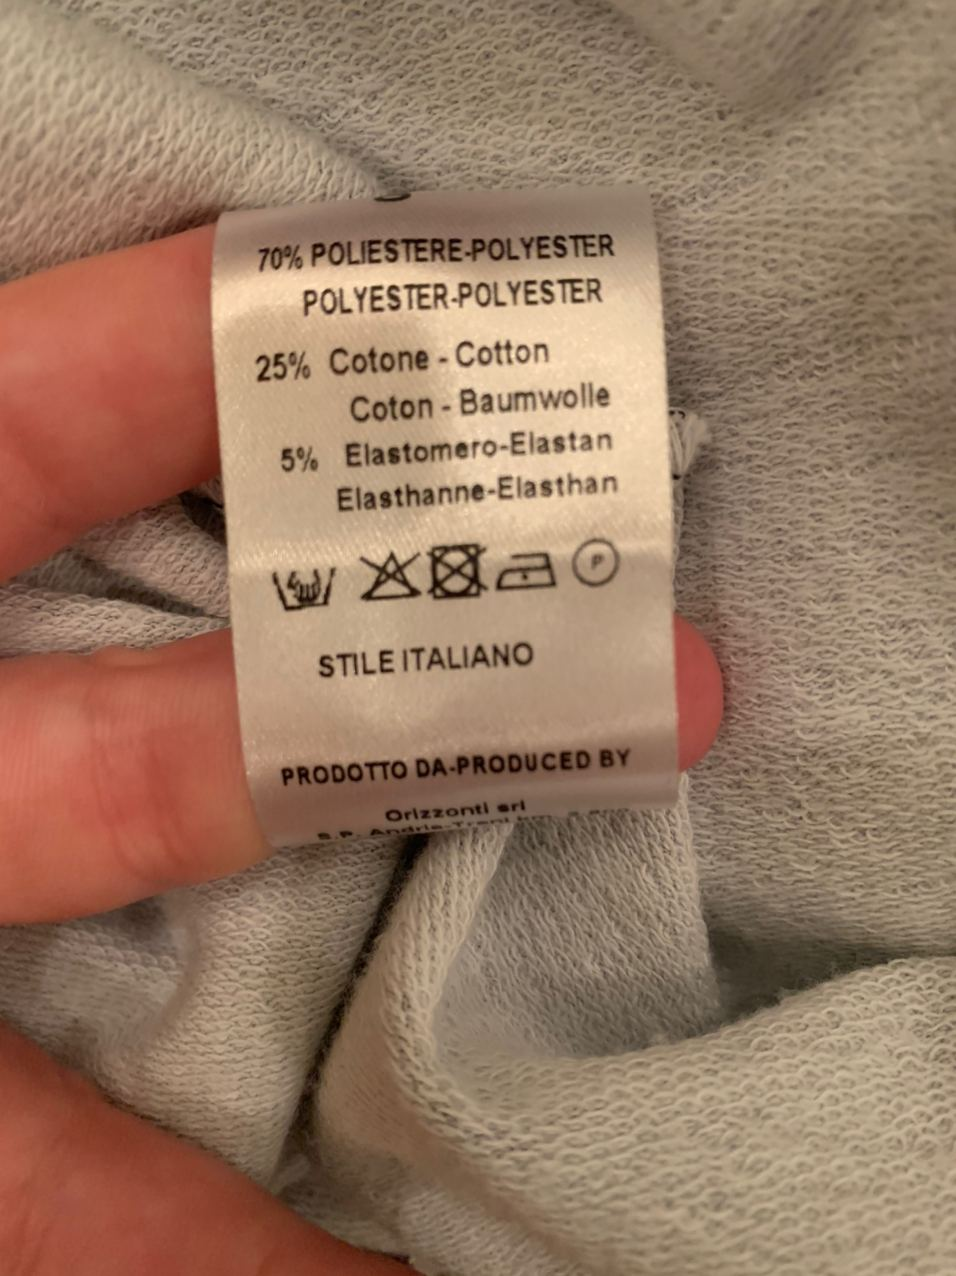do_not_bleach: (352, 542, 423, 607)
do_not_tumble_drying: (424, 538, 491, 606)
dry_clean_tetrachloroethylene_pce_only: (569, 534, 623, 589)
hand_wash: (268, 554, 343, 621)
ironing_at_low_temp: (492, 544, 560, 601)
